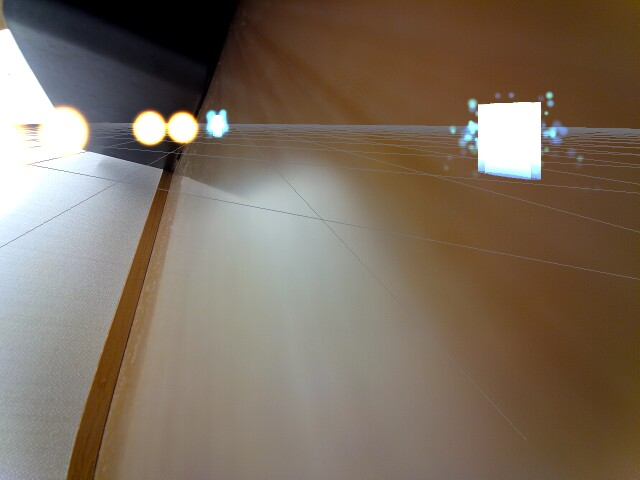firebig: (38, 100, 92, 159)
